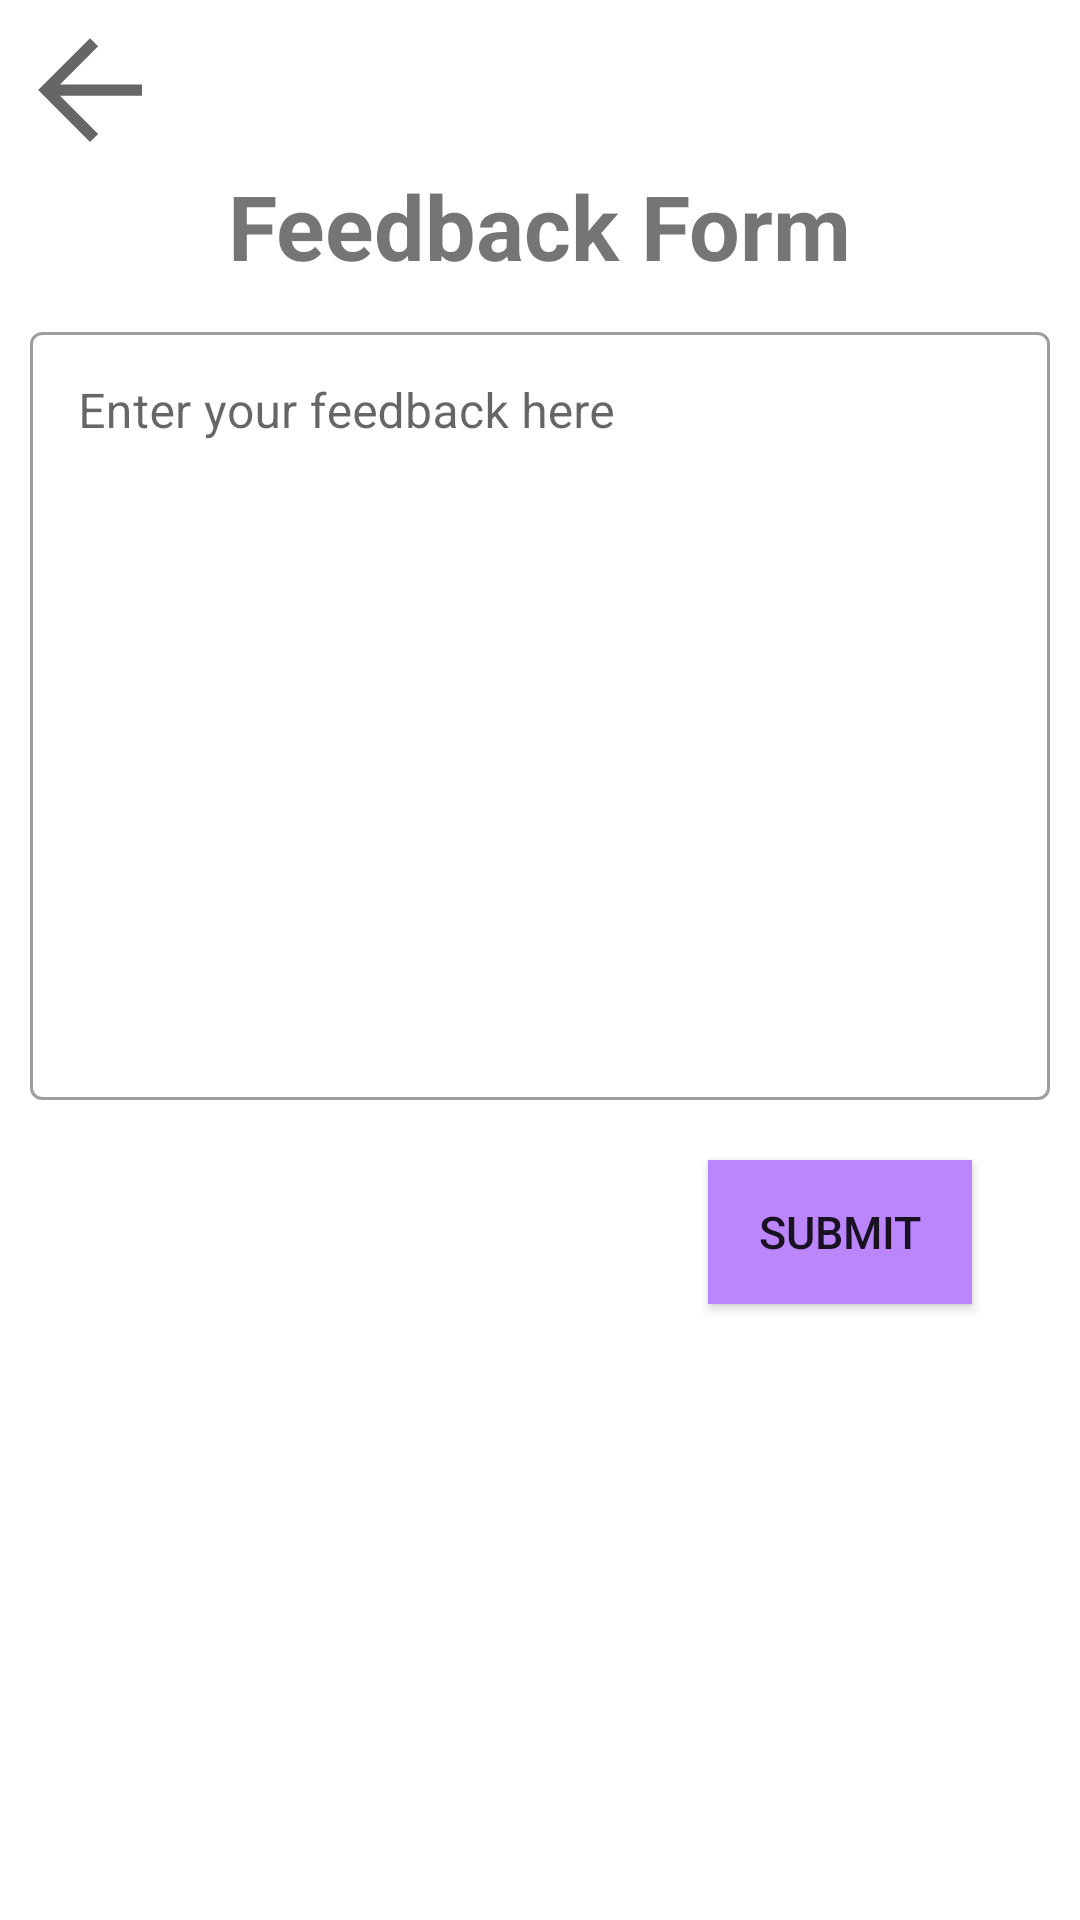

Where icons sit on this 1080x1920 app screen, as (x1, y1, x2, y2):
backarrow: (38, 38, 142, 142)
